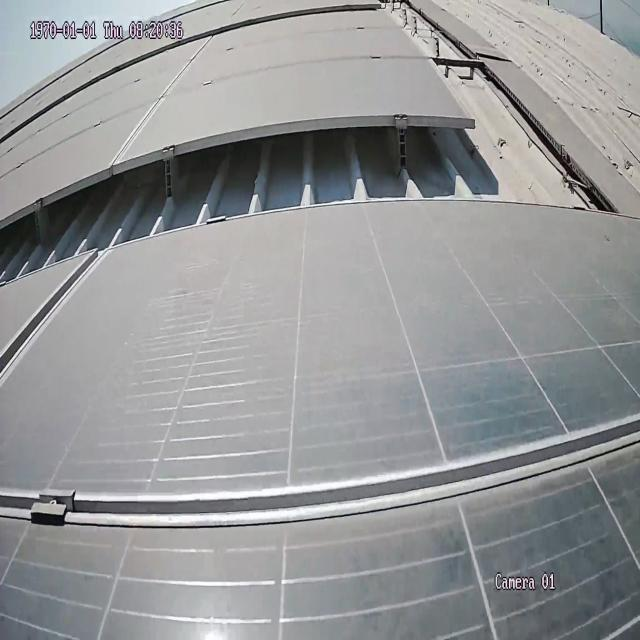interior panel: (0, 401, 640, 559), (113, 53, 197, 157)
outher panel: (0, 0, 640, 281)
